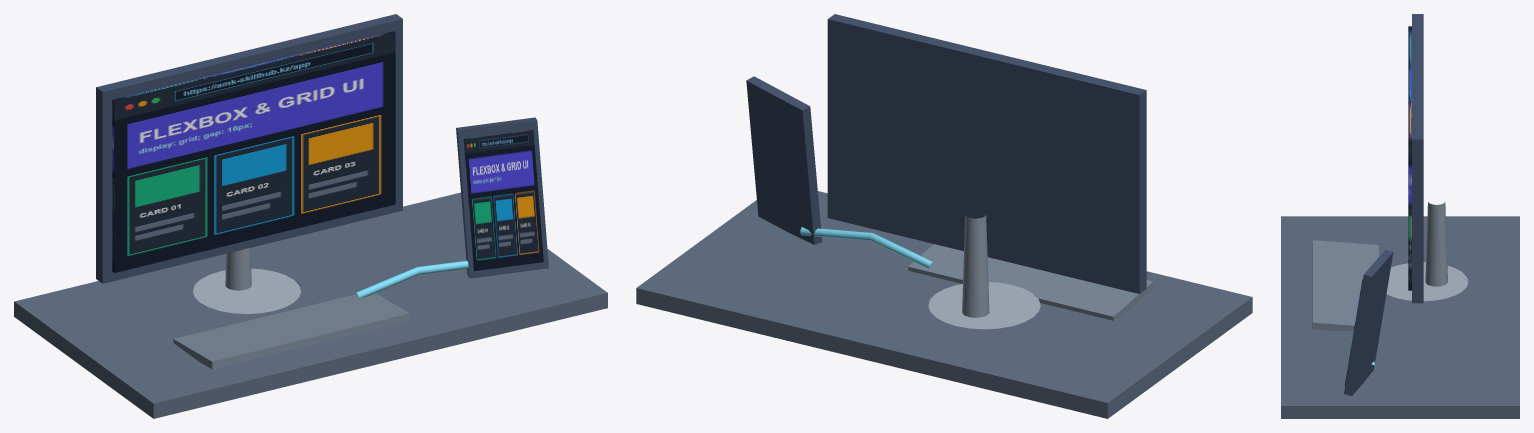
File: it-dom.glb
The picture shows the model from 3 angles, left to right: view 1: azimuth 30°, elevation 25°; view 2: azimuth 150°, elevation 25°; view 3: azimuth 270°, elevation 25°; orthographic projection. The views are drawn at different scales.
Visible parts, largest first — view 1: Desk_Base, Monitor_Display, Monitor_Chassis, Phone_Display, Keyboard_Deck, Monitor_Foot, Phone_Chassis, Monitor_Arm, DOM_Bus_Cable; view 2: Monitor_Chassis, Desk_Base, Phone_Chassis, Keyboard_Deck, Monitor_Foot, Monitor_Arm, DOM_Bus_Cable; view 3: Desk_Base, Keyboard_Deck, Monitor_Chassis, Phone_Chassis, Monitor_Arm, Monitor_Foot, Monitor_Display.
Part boxes in pixels (box(x1,y1,x2,y2)): Desk_Base: box(14, 192, 607, 418); Monitor_Display: box(112, 31, 395, 272); Monitor_Chassis: box(96, 14, 402, 283); Phone_Display: box(463, 129, 543, 271); Keyboard_Deck: box(173, 293, 410, 369); Monitor_Foot: box(193, 268, 300, 313); Phone_Chassis: box(456, 117, 548, 278); Monitor_Arm: box(225, 248, 251, 290); DOM_Bus_Cable: box(356, 260, 468, 298); Monitor_Chassis: box(827, 14, 1146, 293); Desk_Base: box(636, 191, 1252, 418); Phone_Chassis: box(746, 76, 822, 244); Keyboard_Deck: box(908, 244, 1153, 320); Monitor_Foot: box(927, 282, 1040, 329); Monitor_Arm: box(962, 215, 989, 317); DOM_Bus_Cable: box(800, 227, 933, 268); Desk_Base: box(1281, 216, 1519, 418); Keyboard_Deck: box(1312, 240, 1378, 330); Monitor_Chassis: box(1412, 14, 1423, 303); Phone_Chassis: box(1344, 250, 1393, 395); Monitor_Arm: box(1425, 202, 1447, 286); Monitor_Foot: box(1386, 262, 1468, 301); Monitor_Display: box(1408, 26, 1411, 290).
Size of the model in its own units: 3.1 by 1.73 by 1.65.
9 materials, 2 textured.
